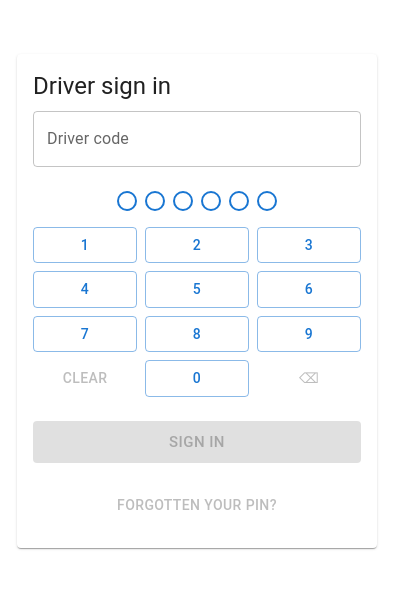
Driver PinLoginPage › explains a rate-limited PIN reset request
The width and height of the screenshot is (395, 609).
Step 1. Type "DRV-0001" into the field labelled "Driver code" → (197, 139), box left=33, top=111, right=361, bottom=167
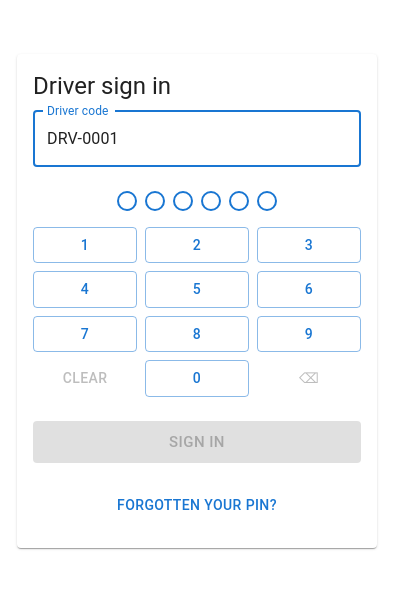
Step 2. Click the button "Forgotten your PIN?" → (197, 505), box left=33, top=487, right=361, bottom=524
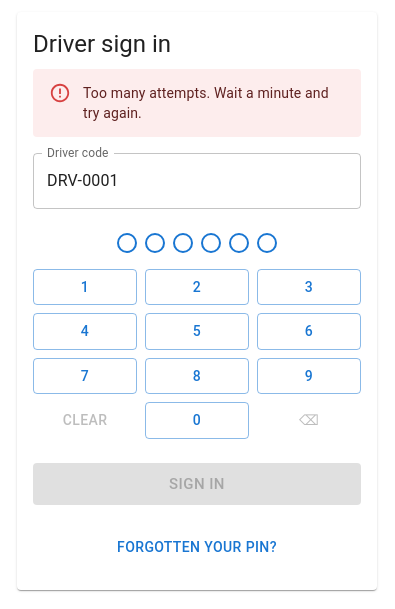
Check: the message shows "Too many attempts", box left=83, top=85, right=329, bottom=121
